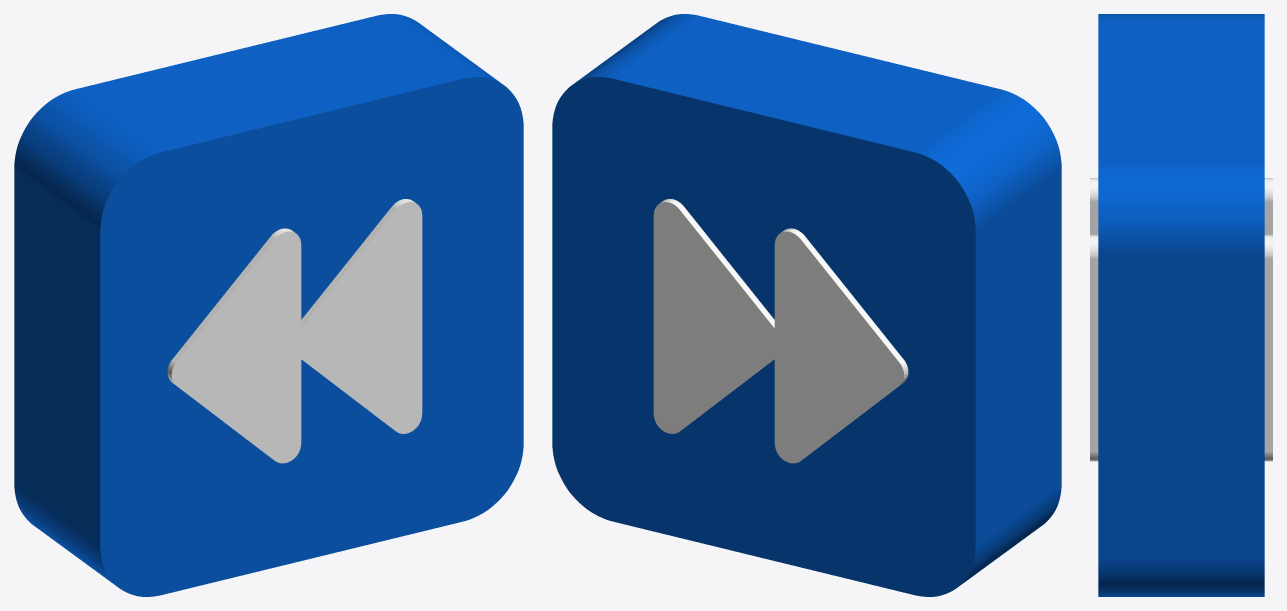
3 views of the same model, side by side, from view 1: azimuth 30°, elevation 25°; view 2: azimuth 150°, elevation 25°; view 3: azimuth 270°, elevation 25° (orthographic). The views are drawn at different scales.
Visible parts, largest first — view 1: U+23EA_layer00_obj00, U+23EA_layer01_obj00; view 2: U+23EA_layer00_obj00, U+23EA_layer01_obj00; view 3: U+23EA_layer00_obj00, U+23EA_layer01_obj00.
Boxes of the visible parts, x1=… form: U+23EA_layer00_obj00: x1=14, y1=14, x2=523, y2=596; U+23EA_layer01_obj00: x1=167, y1=199, x2=422, y2=463; U+23EA_layer00_obj00: x1=552, y1=14, x2=1061, y2=596; U+23EA_layer01_obj00: x1=653, y1=199, x2=908, y2=463; U+23EA_layer00_obj00: x1=1098, y1=14, x2=1264, y2=596; U+23EA_layer01_obj00: x1=1090, y1=178, x2=1272, y2=461.
Size of the model in its own units: 0.5678 by 0.5677 by 0.22.
